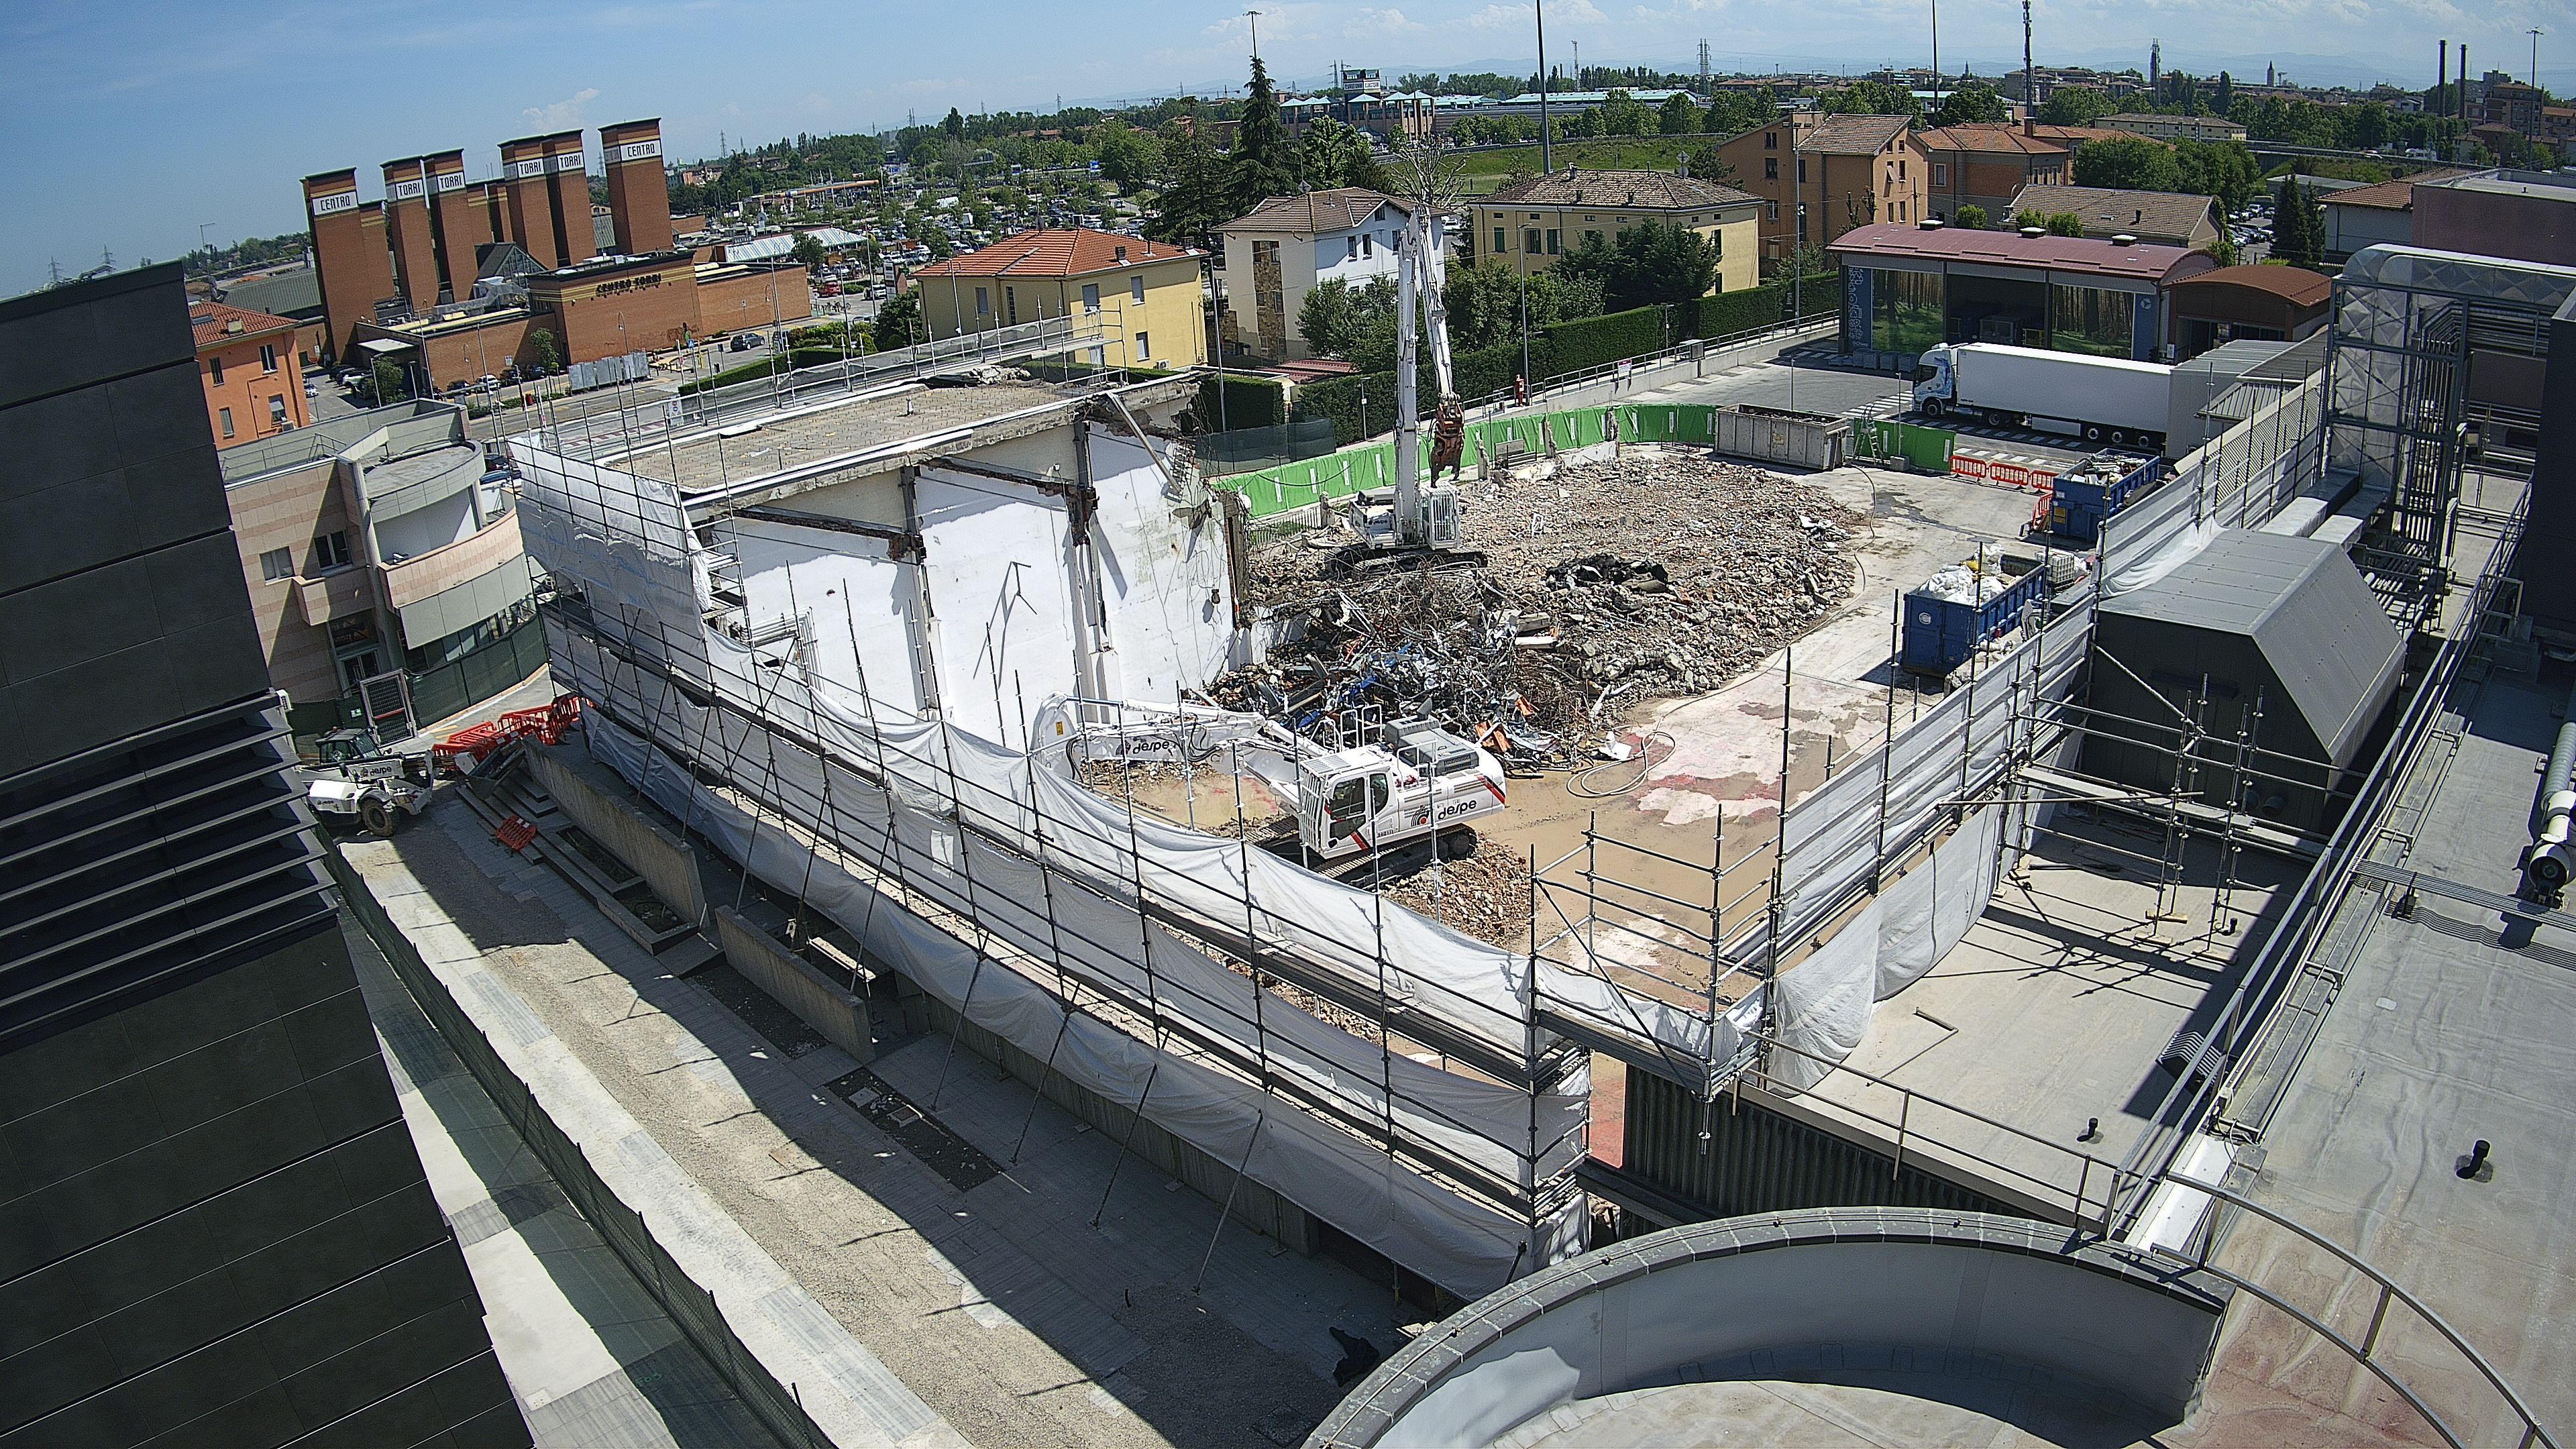Cars: (731, 333, 764, 350), (520, 361, 548, 380), (446, 379, 471, 396), (501, 368, 524, 386), (817, 281, 842, 297), (476, 375, 499, 391), (863, 285, 886, 299), (303, 382, 318, 398)
Trucks: (1914, 340, 2173, 458)
excavator: (1033, 690, 1507, 895), (1323, 203, 1490, 579), (295, 725, 525, 837)
